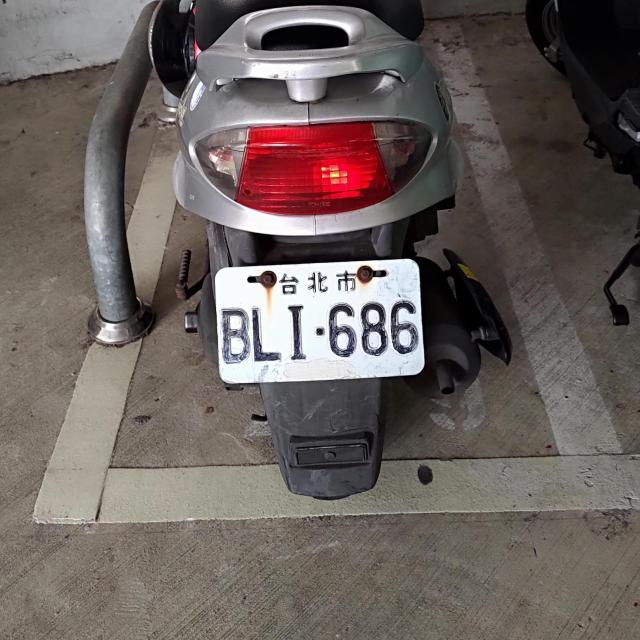W: (213, 256, 424, 384)
